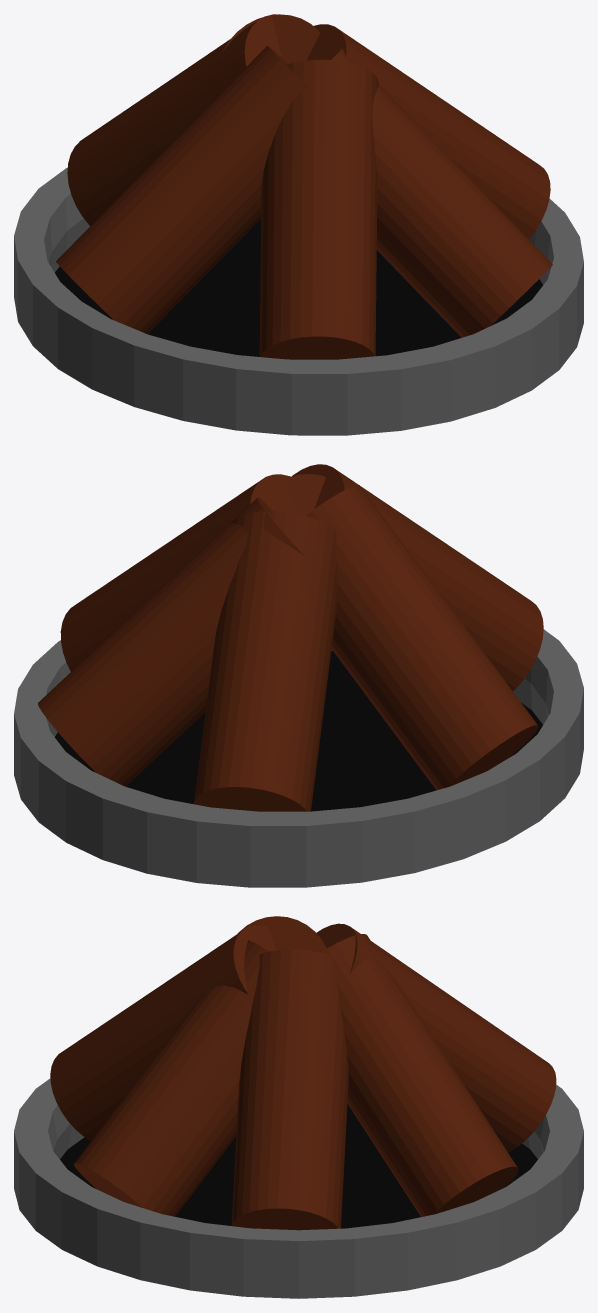
File: Fogueira.fbx
The picture shows the model from 3 angles, top to bottom: view 1: azimuth 30°, elevation 25°; view 2: azimuth 150°, elevation 25°; view 3: azimuth 270°, elevation 25°; orthographic projection. The views are drawn at different scales.
Parts seen in each view (by area): view 1: Cylinder, Cylinder.003, Cylinder.004, Cylinder.007, Cylinder.001, Cylinder.002, Cylinder.005, Cylinder.006; view 2: Cylinder, Cylinder.002, Cylinder.004, Cylinder.006, Cylinder.001, Cylinder.003, Cylinder.005, Cylinder.007; view 3: Cylinder, Cylinder.005, Cylinder.006, Cylinder.007, Cylinder.003, Cylinder.002, Cylinder.001, Cylinder.004.
Part boxes in pixels (<box>): Cylinder: <box>14,167,583,435</box>; Cylinder.003: <box>259,59,378,359</box>; Cylinder.004: <box>56,45,307,334</box>; Cylinder.007: <box>330,48,552,337</box>; Cylinder.001: <box>55,219,542,356</box>; Cylinder.002: <box>67,14,281,225</box>; Cylinder.005: <box>306,24,550,239</box>; Cylinder.006: <box>222,14,319,63</box>; Cylinder: <box>14,629,583,887</box>; Cylinder.002: <box>194,511,337,811</box>; Cylinder.004: <box>305,485,538,790</box>; Cylinder.006: <box>38,497,304,786</box>; Cylinder.001: <box>55,650,542,811</box>; Cylinder.003: <box>292,464,543,690</box>; Cylinder.005: <box>60,474,297,671</box>; Cylinder.007: <box>284,474,325,515</box>; Cylinder: <box>14,1078,583,1298</box>; Cylinder.005: <box>231,949,348,1230</box>; Cylinder.006: <box>320,934,518,1216</box>; Cylinder.007: <box>74,940,268,1216</box>; Cylinder.003: <box>50,925,275,1140</box>; Cylinder.002: <box>316,923,556,1152</box>; Cylinder.001: <box>60,1104,537,1228</box>; Cylinder.004: <box>237,916,326,952</box>.
Bounding box in the file's own units: 5385 × 2940 × 5887.
